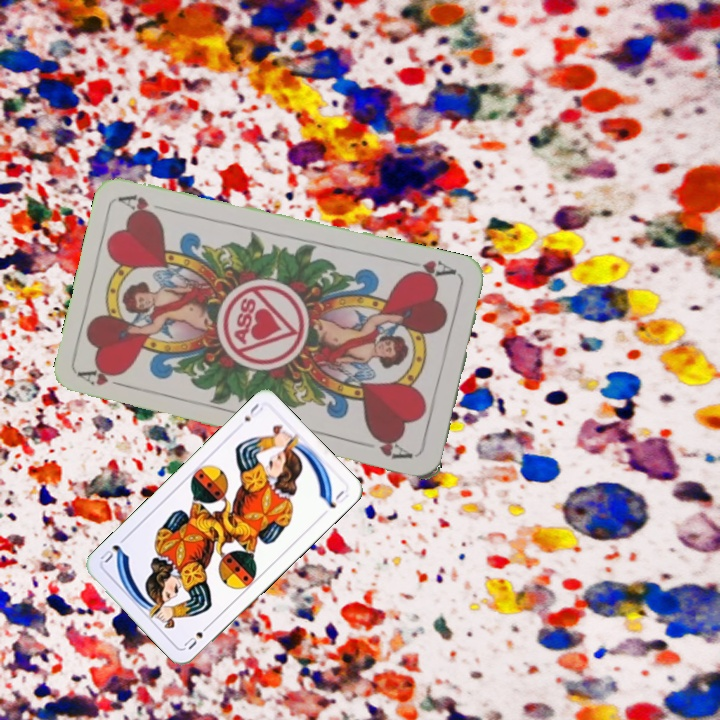HA: (401, 256, 459, 284), (76, 365, 135, 392)
SU: (180, 619, 213, 652), (240, 399, 266, 424)
